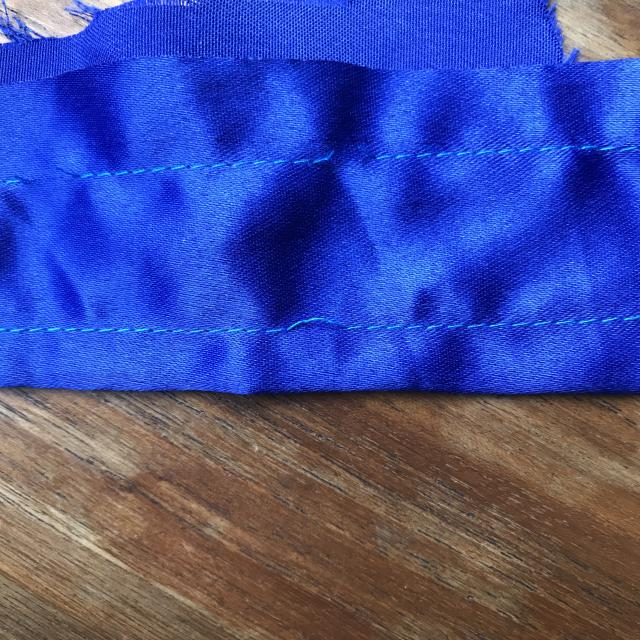broken: (303, 133, 408, 188)
skip: (260, 297, 376, 349)
